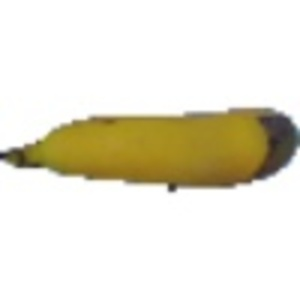banana: (3, 102, 297, 186)
